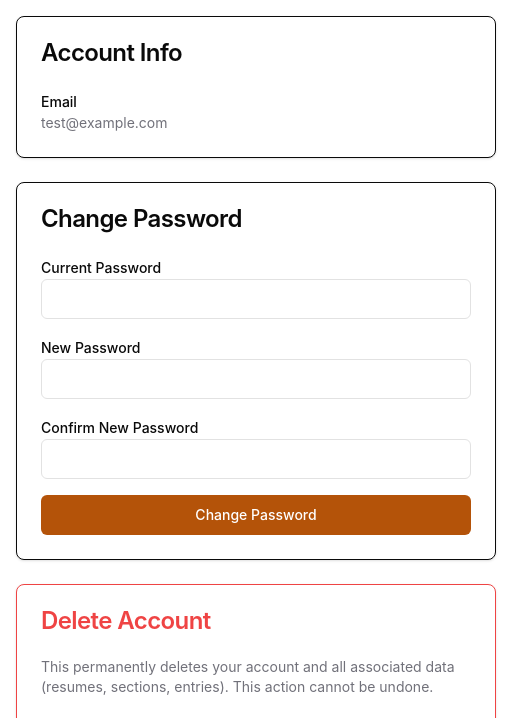
Test case: AccountView › Change Password › shows error when new password is too short
Type "current" into the password field with id "current-password" at (256, 299), box left=41, top=279, right=471, bottom=319
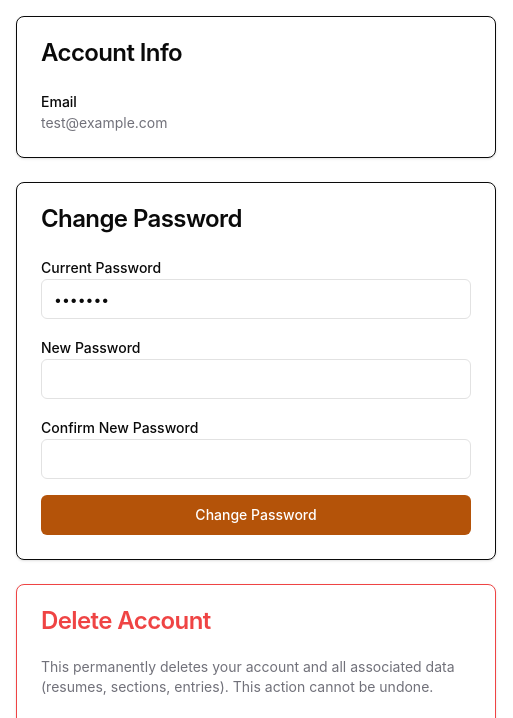
Type "short" into the password field with id "new-password" at (256, 379), box left=41, top=359, right=471, bottom=399
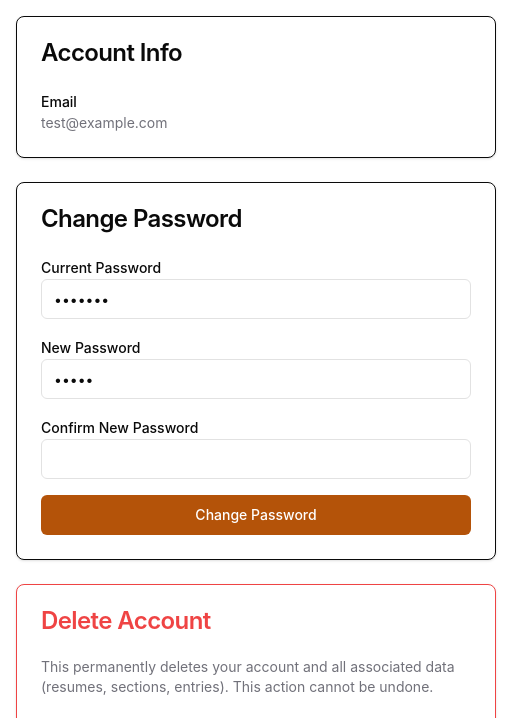
Type "short" into the password field with id "confirm-new-password" at (256, 459), box left=41, top=439, right=471, bottom=479
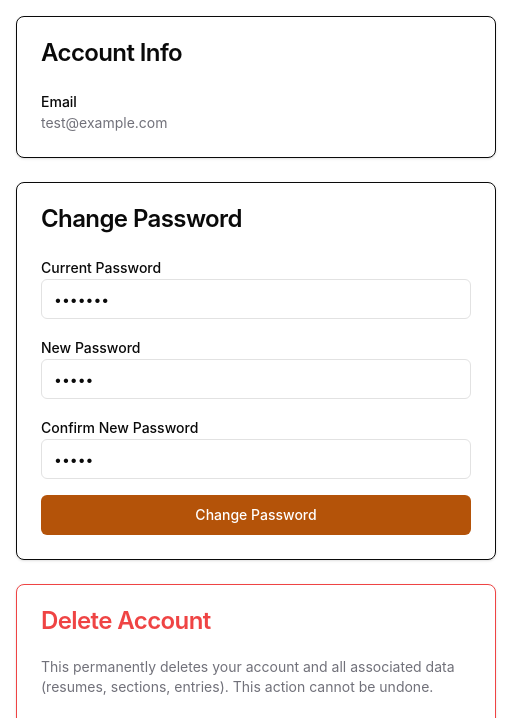
Submit the form that starts with "Current Password", box left=41, top=255, right=471, bottom=535
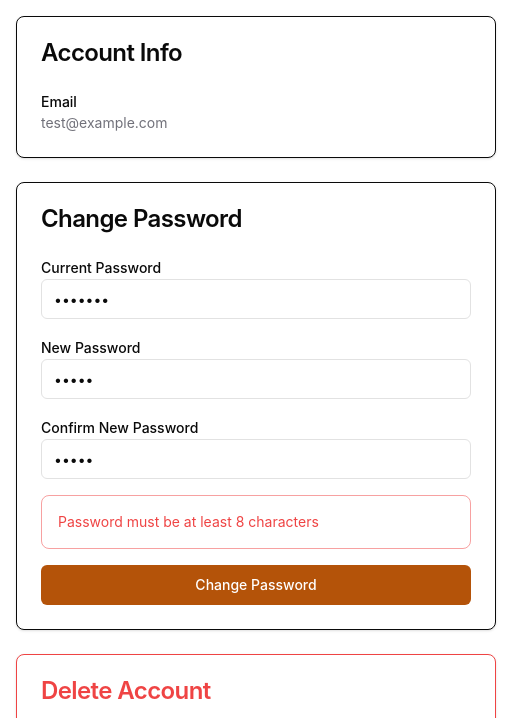
Expected: the message "Password must be at least 8 characters" is shown, left=41, top=495, right=471, bottom=549
